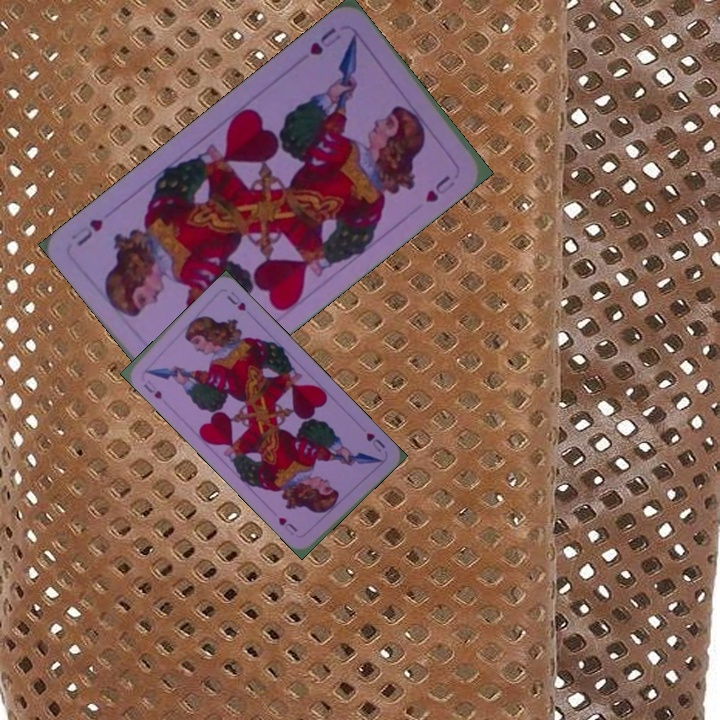HU: (305, 23, 344, 58), (362, 428, 388, 455), (139, 376, 165, 402)
